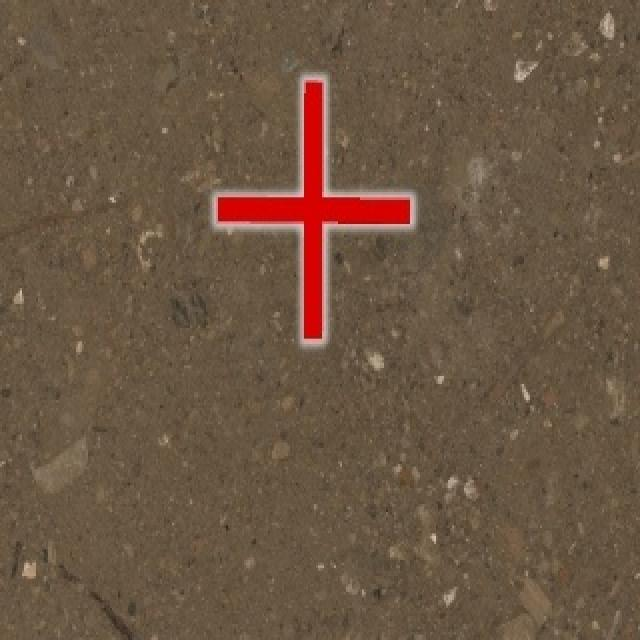x_marker: (215, 79, 411, 340)
